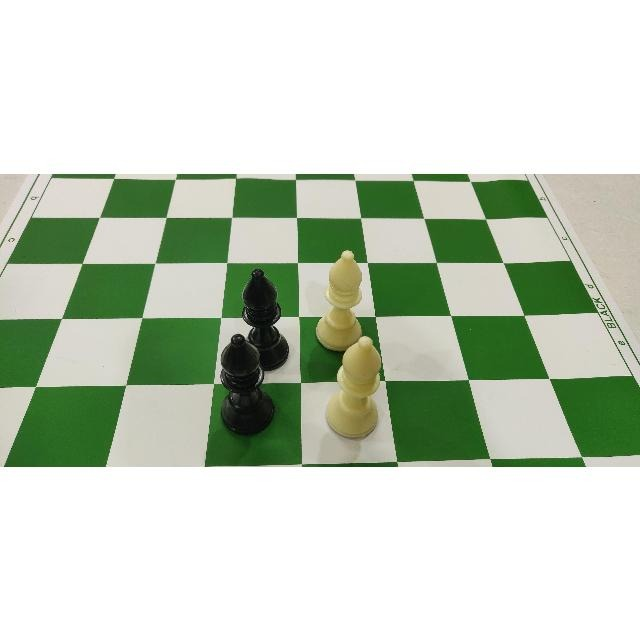black-bishop: (211, 330, 275, 440), (237, 260, 285, 327)
white-bishop: (320, 332, 383, 440), (318, 239, 362, 329)
